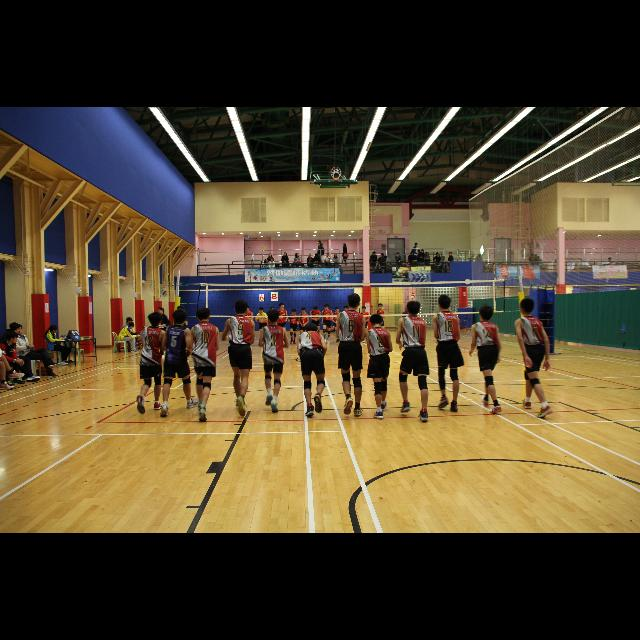head: (520, 298, 534, 316), (196, 308, 210, 324), (234, 300, 248, 316), (438, 296, 452, 310), (479, 306, 493, 320), (348, 294, 360, 310), (371, 314, 384, 328), (150, 312, 162, 326), (174, 310, 186, 324), (407, 302, 421, 314), (6, 332, 18, 344), (267, 310, 279, 322), (306, 324, 318, 334), (15, 324, 23, 334), (50, 325, 58, 333), (128, 322, 134, 330), (157, 307, 163, 315), (279, 302, 285, 310), (324, 304, 330, 312), (126, 318, 132, 324), (258, 308, 264, 314), (334, 307, 340, 313), (246, 306, 250, 312), (302, 307, 306, 313), (314, 307, 318, 313), (362, 306, 366, 312), (378, 304, 382, 310), (292, 310, 296, 314), (268, 254, 272, 258), (270, 259, 274, 263), (372, 252, 376, 256), (380, 253, 384, 257), (383, 256, 387, 260), (448, 252, 452, 256), (404, 307, 408, 311), (326, 253, 329, 257), (396, 252, 399, 256), (411, 252, 414, 256), (421, 250, 424, 253), (284, 252, 286, 256), (308, 254, 312, 256), (316, 254, 318, 258), (334, 254, 338, 256), (318, 241, 320, 245), (342, 244, 346, 246), (414, 244, 418, 246), (426, 252, 428, 256), (442, 257, 444, 261), (436, 254, 439, 256), (266, 260, 268, 262), (296, 254, 298, 256), (479, 254, 481, 256), (486, 262, 488, 264)
person: (514, 297, 554, 419), (160, 310, 200, 418), (220, 300, 256, 418), (396, 300, 430, 424), (468, 302, 504, 416), (431, 294, 465, 414), (336, 292, 366, 418), (190, 307, 220, 423), (258, 308, 290, 414), (364, 314, 394, 421), (136, 310, 166, 416), (296, 323, 328, 419), (10, 324, 60, 378), (0, 327, 26, 386), (44, 323, 78, 367), (151, 306, 171, 359), (117, 321, 141, 353), (119, 318, 143, 350), (254, 307, 270, 348), (274, 303, 288, 349), (240, 304, 254, 346), (308, 306, 322, 344), (358, 305, 372, 343), (321, 303, 333, 345), (298, 306, 310, 346), (374, 303, 386, 343), (288, 308, 300, 346), (332, 306, 344, 344), (316, 240, 326, 272), (340, 242, 350, 268), (402, 307, 411, 335), (377, 252, 388, 272), (410, 242, 420, 264), (290, 253, 302, 271), (446, 252, 454, 278), (280, 252, 290, 270), (323, 252, 333, 270), (369, 252, 378, 272), (394, 252, 404, 270), (438, 256, 448, 274), (474, 253, 484, 271), (382, 255, 393, 271), (306, 253, 316, 270), (312, 253, 322, 269), (408, 251, 418, 267), (433, 252, 443, 268), (262, 258, 270, 276), (268, 258, 276, 276), (332, 253, 340, 269), (419, 249, 427, 265), (424, 252, 431, 270), (484, 261, 491, 279), (267, 254, 275, 268)
